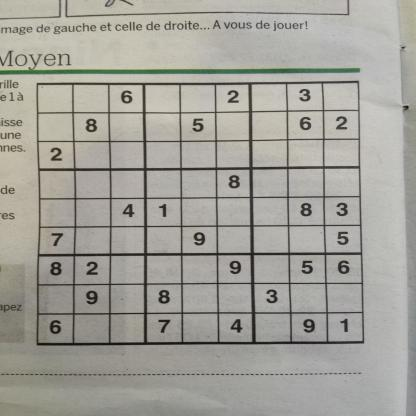sudoku: (30, 76, 366, 350)
